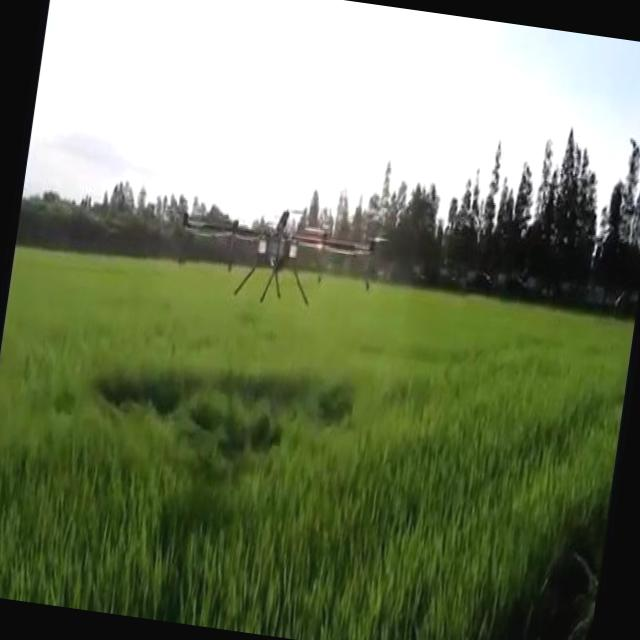drone: (166, 186, 397, 326)
